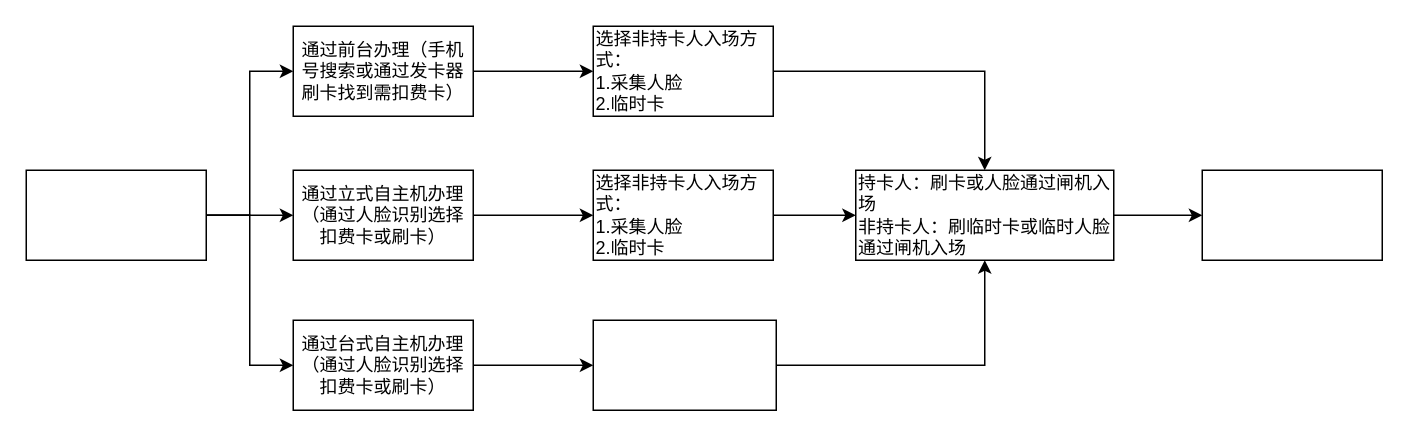
Some shapes in this 1409 by 437 pixel diagram are drawn without their labels. The shapes that lost their labels are listed below. From the top down, each one's centre as x and y in pixels, then its label:
At (x=115, y=214): "用户入场 （确定持卡人外的消费人数）".
At (x=1291, y=214): "通过刷人脸方式在储物柜进行衣物存放".
At (x=684, y=364): "选择非持卡人入场方式： 1.采集人脸".
